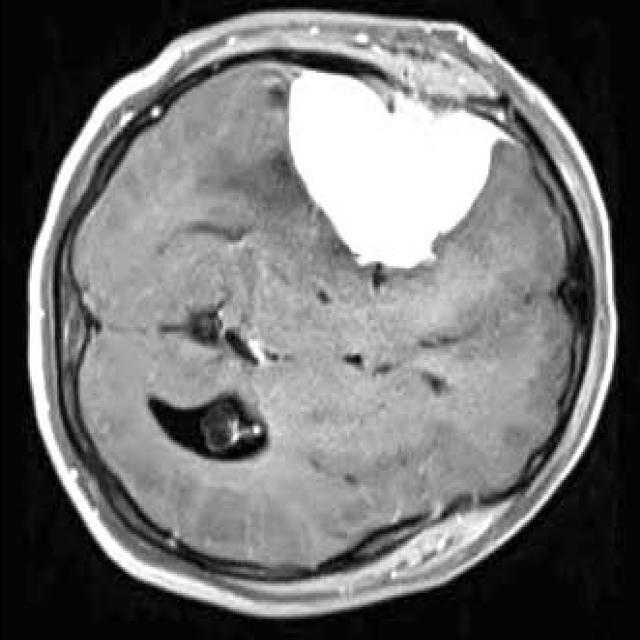tumor: (284, 71, 499, 271)
